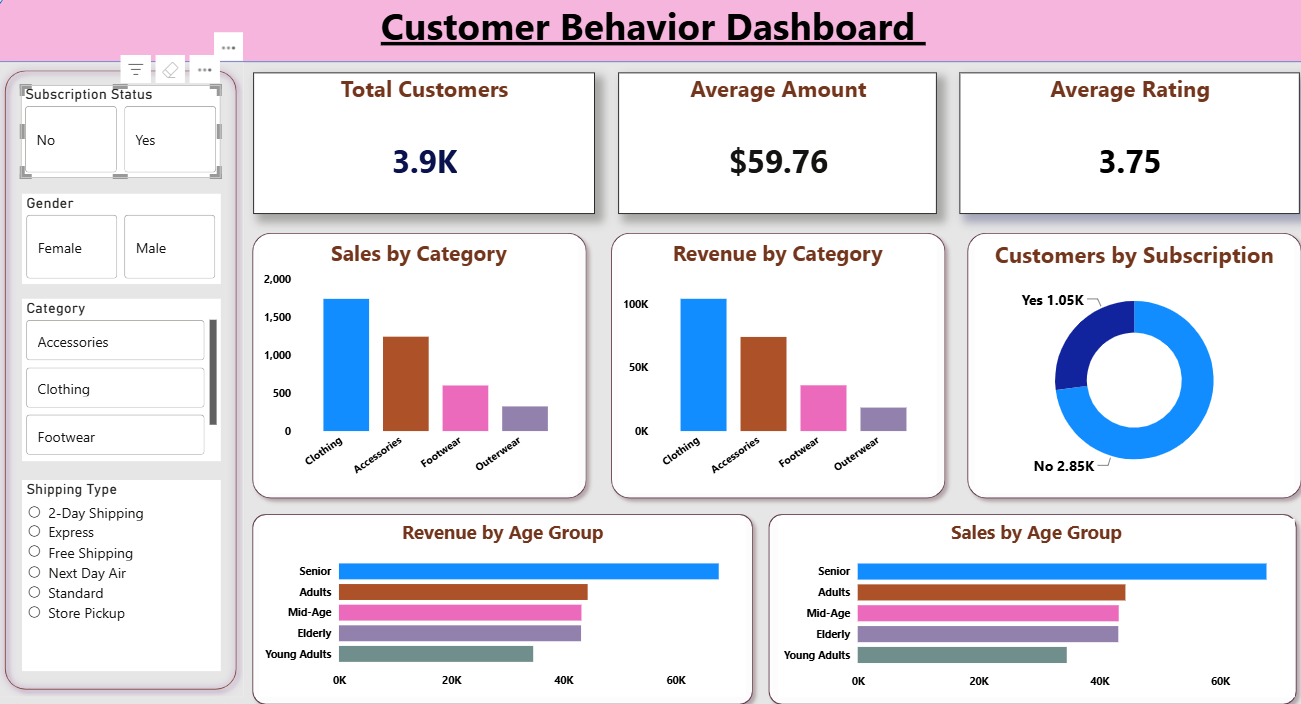

What the dashboard file says about the page in this screenshot:
{"tool":"powerbi","page":{"name":"Page 1","canvas":[1500,820],"ordinal":0},"visuals":[{"type":"cardVisual","title":"Total Customers","fields":{"Data":["customer_shopping_behavior.Number of customer"]},"box":[292.9,88.6,390,161.4],"z":0},{"type":"cardVisual","title":"Average Amount","fields":{"Data":["customer_shopping_behavior.Avg_purchases_amount"]},"box":[710,88.6,364.3,161.4],"z":1000},{"type":"cardVisual","title":"Average Rating","fields":{"Data":["customer_shopping_behavior.Avg_review_rating"]},"box":[1100,88.6,388.6,161.4],"z":2000},{"type":"shape","box":[0,0,1500,77.1],"z":3000},{"type":"textbox","box":[0,0,1500,77.1],"z":4000},{"type":"shape","box":[1100,262.9,400,321.4],"z":5000},{"type":"donutChart","title":"Customers by Subscription","fields":{"Category":["customer_shopping_behavior.Subscription_Status"],"Y":["CountNonNull(customer_shopping_behavior.Customer_ID)"]},"box":[1117.1,278.6,365.7,290],"z":6000},{"type":"shape","box":[692.9,262.9,400,321.4],"z":7000},{"type":"shape","box":[282.9,262.9,400,321.4],"z":8000},{"type":"clusteredColumnChart","title":"Revenue by Category ","fields":{"Y":["Sum(customer_shopping_behavior.Purchase_Amount_USD)"],"Category":["customer_shopping_behavior.Category"]},"box":[710,278.6,364.3,290],"z":9000},{"type":"clusteredColumnChart","title":"Sales by Category ","fields":{"Category":["customer_shopping_behavior.Category"],"Y":["CountNonNull(customer_shopping_behavior.Purchase_Amount_USD)"]},"box":[300,278.6,364.3,290],"z":10000},{"type":"shape","box":[0,77.1,282.9,725.7],"z":11000},{"type":"advancedSlicerVisual","fields":{"Values":["customer_shopping_behavior.Subscription_Status"]},"box":[27.1,102.9,228.6,105.7],"z":12000},{"type":"advancedSlicerVisual","fields":{"Values":["customer_shopping_behavior.Gender"]},"box":[28.6,227.1,227.1,102.9],"z":13000},{"type":"advancedSlicerVisual","fields":{"Values":["customer_shopping_behavior.Category"]},"box":[28.6,347.1,227.1,185.7],"z":14000},{"type":"listSlicer","fields":{"Values":["customer_shopping_behavior.Shipping_Type"]},"box":[28.6,554.3,227.1,218.6],"z":15000},{"type":"shape","box":[872.9,584.3,621.4,235.7],"z":16000},{"type":"clusteredBarChart","title":"Sales by Age Group","fields":{"Y":["Sum(customer_shopping_behavior.Purchase_Amount_USD)"],"Category":["customer_shopping_behavior.Age_Group"]},"box":[892.9,598.6,590,204.3],"z":17000},{"type":"shape","box":[282.9,584.3,590,235.7],"z":18000},{"type":"clusteredBarChart","title":"Revenue by Age Group","fields":{"Y":["Sum(customer_shopping_behavior.Purchase_Amount_USD)"],"Category":["customer_shopping_behavior.Age_Group"]},"box":[300,598.6,555.7,202.9],"z":19000}]}

Visuals, with their boxes on the page's 1500x820 design canvas (x1, y1, x2, y2). These are canvas units, not pixel positions in the 1301x704 screenshot, which may show the page scaled, cropped or inside an application window:
"Total Customers" cardVisual: {"x1": 293, "y1": 89, "x2": 683, "y2": 250}
"Average Amount" cardVisual: {"x1": 710, "y1": 89, "x2": 1074, "y2": 250}
"Average Rating" cardVisual: {"x1": 1100, "y1": 89, "x2": 1489, "y2": 250}
shape: {"x1": 0, "y1": 0, "x2": 1500, "y2": 77}
textbox: {"x1": 0, "y1": 0, "x2": 1500, "y2": 77}
shape: {"x1": 1100, "y1": 263, "x2": 1500, "y2": 584}
"Customers by Subscription" donutChart: {"x1": 1117, "y1": 279, "x2": 1483, "y2": 569}
shape: {"x1": 693, "y1": 263, "x2": 1093, "y2": 584}
shape: {"x1": 283, "y1": 263, "x2": 683, "y2": 584}
"Revenue by Category " clusteredColumnChart: {"x1": 710, "y1": 279, "x2": 1074, "y2": 569}
"Sales by Category " clusteredColumnChart: {"x1": 300, "y1": 279, "x2": 664, "y2": 569}
shape: {"x1": 0, "y1": 77, "x2": 283, "y2": 803}
advancedSlicerVisual - customer_shopping_behavior.Subscription_Status: {"x1": 27, "y1": 103, "x2": 256, "y2": 209}
advancedSlicerVisual - customer_shopping_behavior.Gender: {"x1": 29, "y1": 227, "x2": 256, "y2": 330}
advancedSlicerVisual - customer_shopping_behavior.Category: {"x1": 29, "y1": 347, "x2": 256, "y2": 533}
listSlicer - customer_shopping_behavior.Shipping_Type: {"x1": 29, "y1": 554, "x2": 256, "y2": 773}
shape: {"x1": 873, "y1": 584, "x2": 1494, "y2": 820}
"Sales by Age Group" clusteredBarChart: {"x1": 893, "y1": 599, "x2": 1483, "y2": 803}
shape: {"x1": 283, "y1": 584, "x2": 873, "y2": 820}
"Revenue by Age Group" clusteredBarChart: {"x1": 300, "y1": 599, "x2": 856, "y2": 802}
